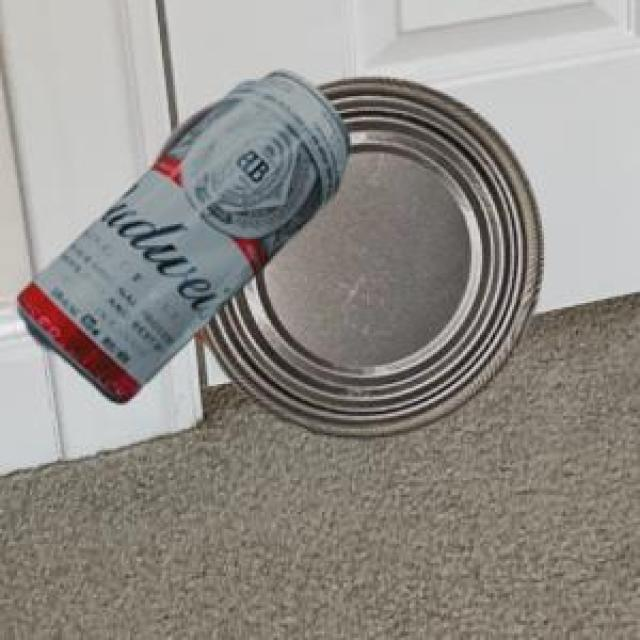logam: (153, 76, 541, 438), (16, 67, 347, 400)
